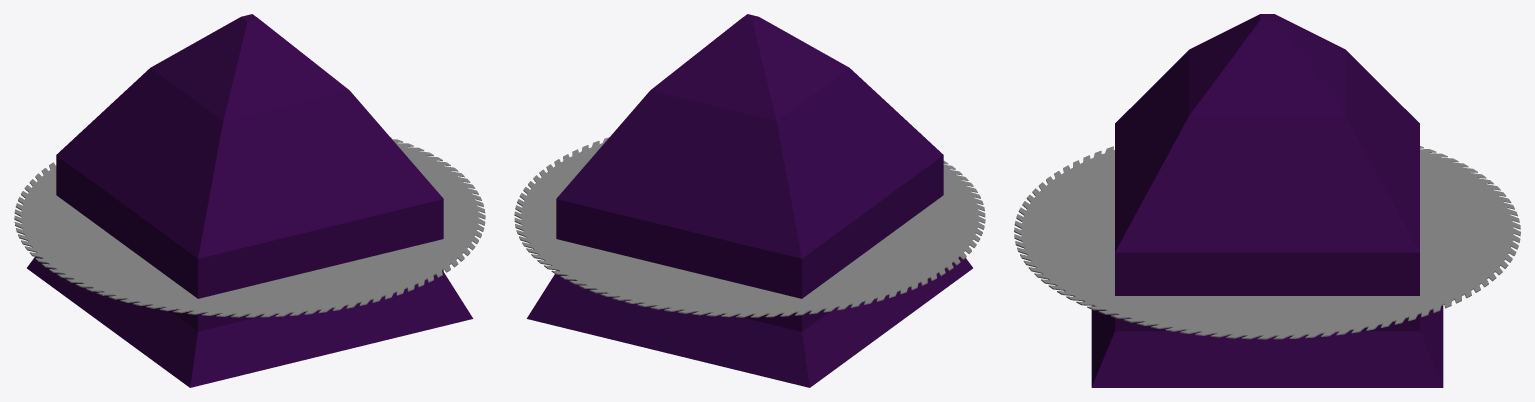
The model's file is sciecirculaire.fbx.
The picture shows the model from 3 angles, left to right: view 1: azimuth 30°, elevation 25°; view 2: azimuth 150°, elevation 25°; view 3: azimuth 270°, elevation 25°; orthographic projection. The views are drawn at different scales.
Parts seen in each view (by area): view 1: Cube, Scie; view 2: Cube, Scie; view 3: Cube, Scie.
Part boxes in pixels (left/top/right/bottom): Cube: left=27, top=14, right=473, bottom=387; Scie: left=14, top=137, right=485, bottom=317; Cube: left=526, top=14, right=972, bottom=387; Scie: left=514, top=137, right=985, bottom=317; Cube: left=1091, top=14, right=1443, bottom=387; Scie: left=1014, top=146, right=1520, bottom=339.
Bounding box in the file's own units: 1068 × 690 × 1068.
